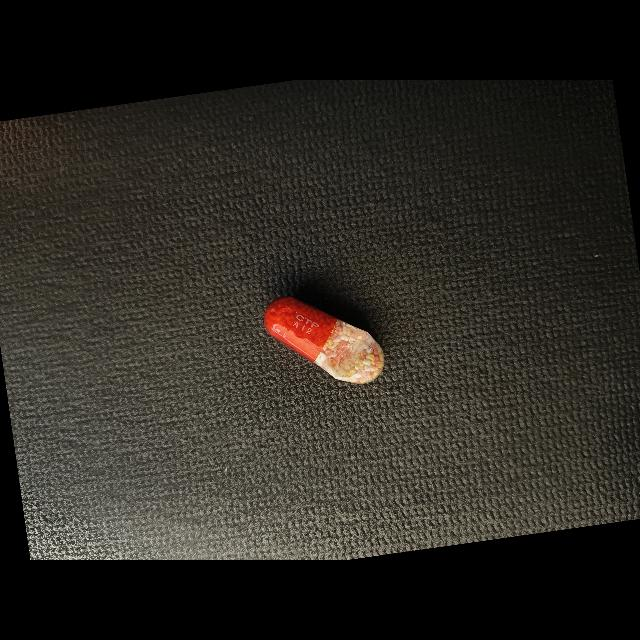Defective Capsule: (264, 297, 385, 384)
